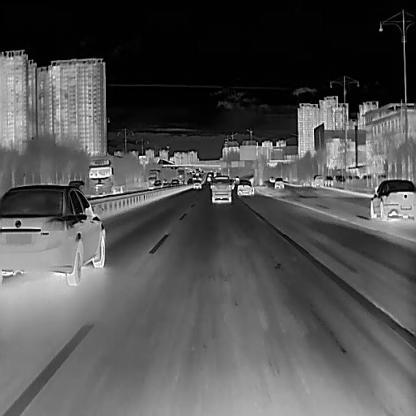car: (0, 184, 105, 285), (88, 156, 144, 195), (370, 178, 416, 218), (209, 175, 230, 203), (146, 168, 162, 189), (236, 177, 252, 195), (274, 176, 283, 188), (192, 180, 201, 189), (151, 179, 160, 188), (170, 178, 178, 188)
